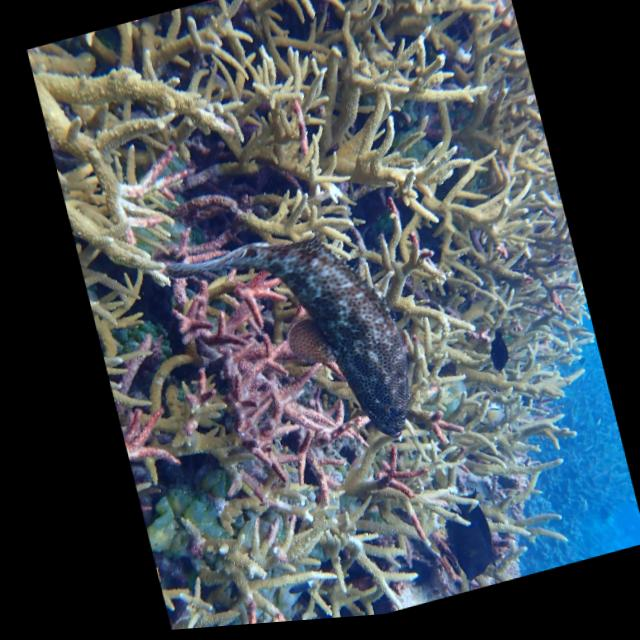Groupers: (156, 203, 428, 490)
